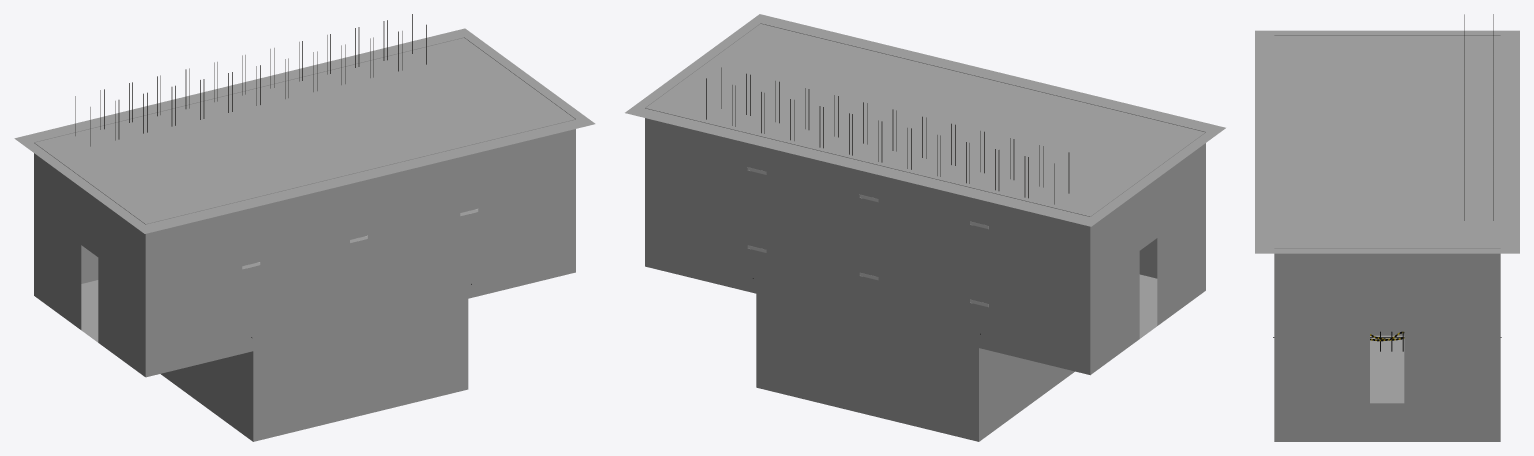
File: Section 5 Past.fbx
The picture shows the model from 3 angles, left to right: view 1: azimuth 30°, elevation 25°; view 2: azimuth 150°, elevation 25°; view 3: azimuth 270°, elevation 25°; orthographic projection. The views are drawn at different scales.
Visible parts, largest first — view 1: SECTION_5, pPlane3, Catwalk; view 2: SECTION_5, pPlane3, Catwalk; view 3: pPlane3, SECTION_5, Catwalk.
Boxes of the visible parts, x1,y1,x2,y2 form: SECTION_5: [34, 37, 575, 441]; pPlane3: [14, 28, 595, 233]; Catwalk: [75, 14, 426, 146]; SECTION_5: [645, 23, 1205, 441]; pPlane3: [625, 14, 1225, 226]; Catwalk: [706, 67, 1069, 204]; pPlane3: [1255, 30, 1519, 253]; SECTION_5: [1274, 35, 1500, 441]; Catwalk: [1464, 14, 1493, 220].
Size of the model in its own units: 2493 by 1498 by 1252.
